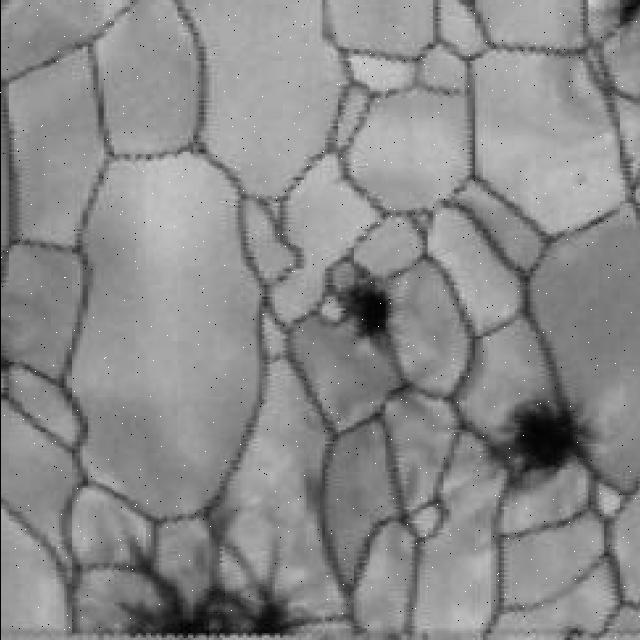good_void: (111, 521, 304, 637), (487, 396, 601, 473), (337, 278, 393, 340)
